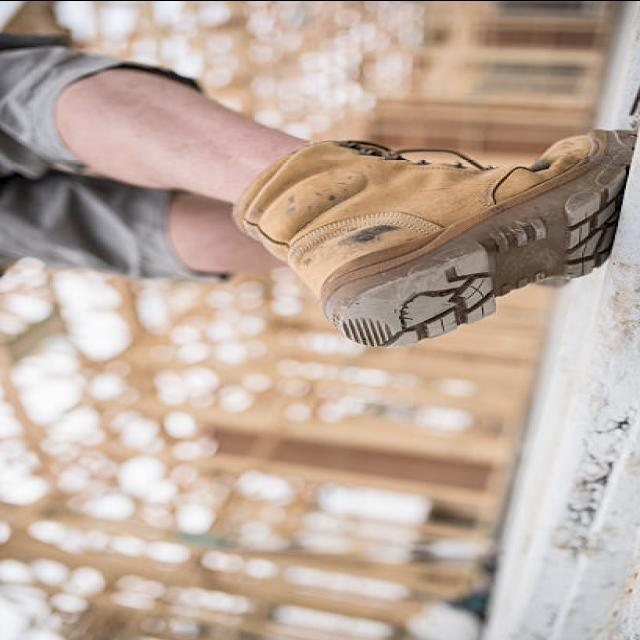Boots: (230, 122, 638, 354)
